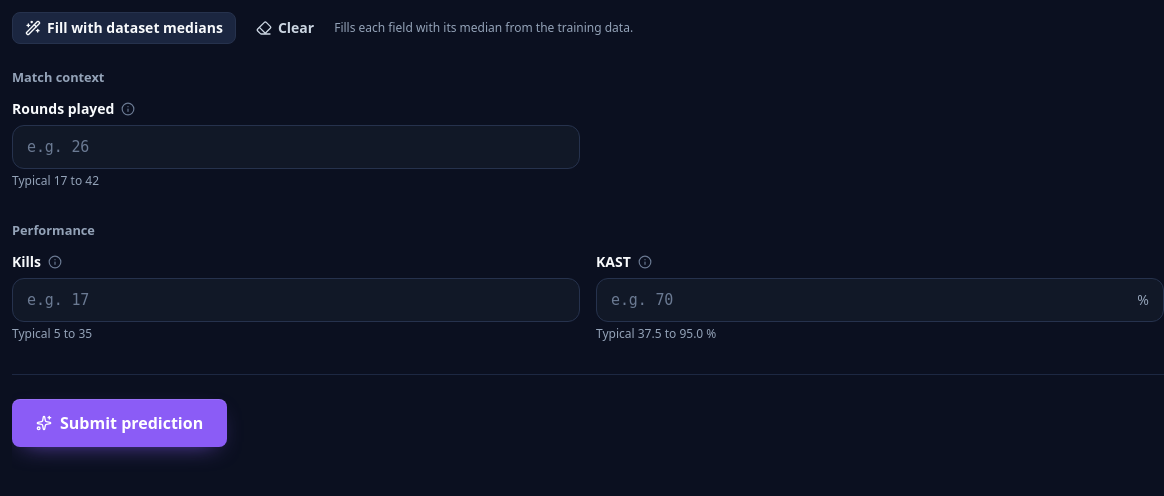
Test: PredictionForm › shows out-of-range errors inline
The width and height of the screenshot is (1164, 496).
Step 1. Type "140" into the number field labelled "KAST" → [867, 300], box [597,279,1137,321]
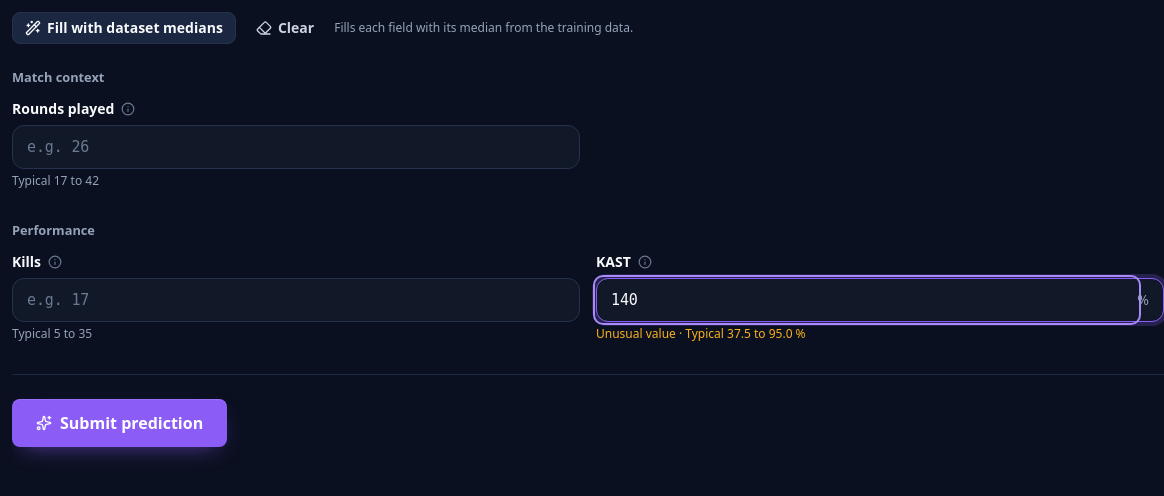
Step 2. Press Tab
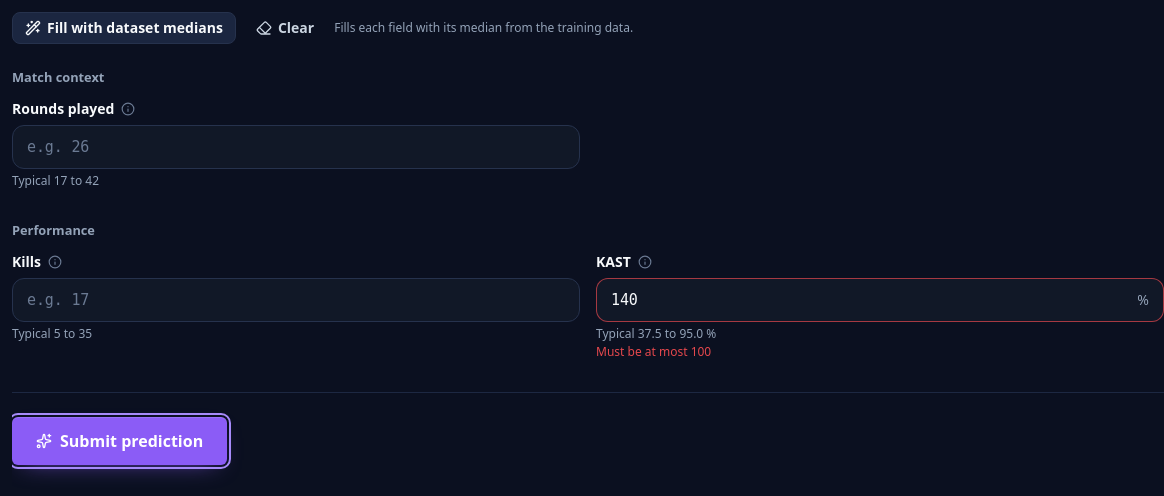
Result: the text "Must be at most 100" is shown at [596,343,711,360]
